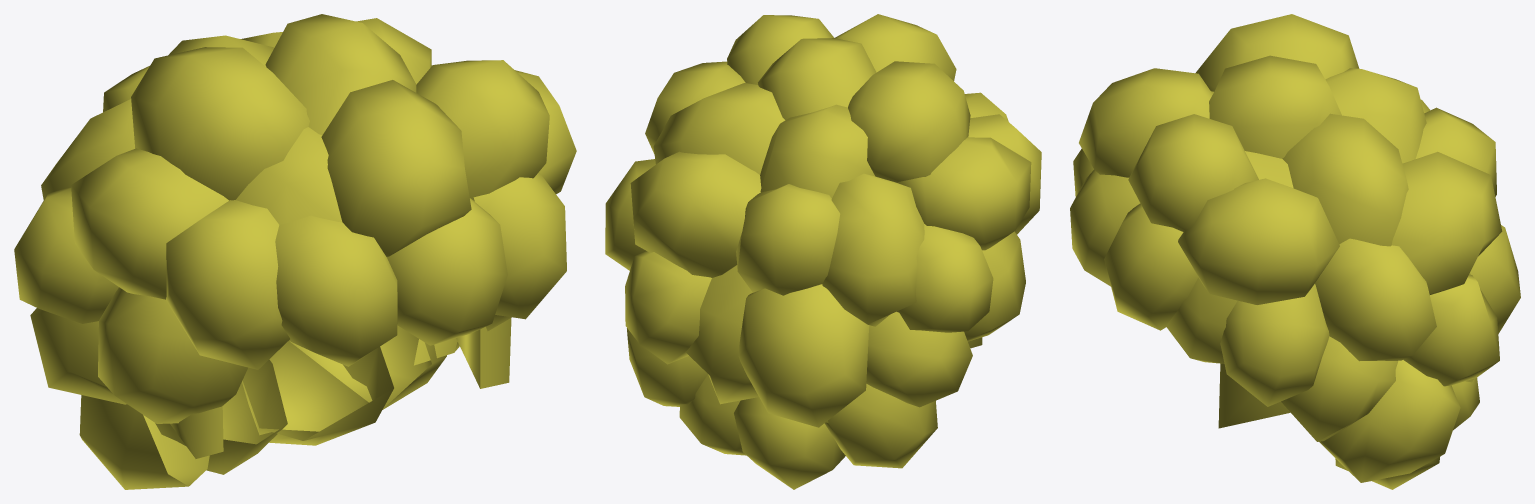
The model's file is Male_Hairs_04_v2.fbx.
3 renders of one model, left to right at view 1: azimuth 30°, elevation 25°; view 2: azimuth 150°, elevation 25°; view 3: azimuth 270°, elevation 25°, orthographic. The views are drawn at different scales.
Visible parts, largest first — view 1: Male_Hairs_04_v2; view 2: Male_Hairs_04_v2; view 3: Male_Hairs_04_v2.
Boxes of the visible parts, box(x1,y1,x2,y2) form: Male_Hairs_04_v2: box(14, 14, 576, 489); Male_Hairs_04_v2: box(605, 14, 1041, 489); Male_Hairs_04_v2: box(1070, 14, 1520, 489).
Bounding box in the file's own units: 78.16 × 75.37 × 76.42.
